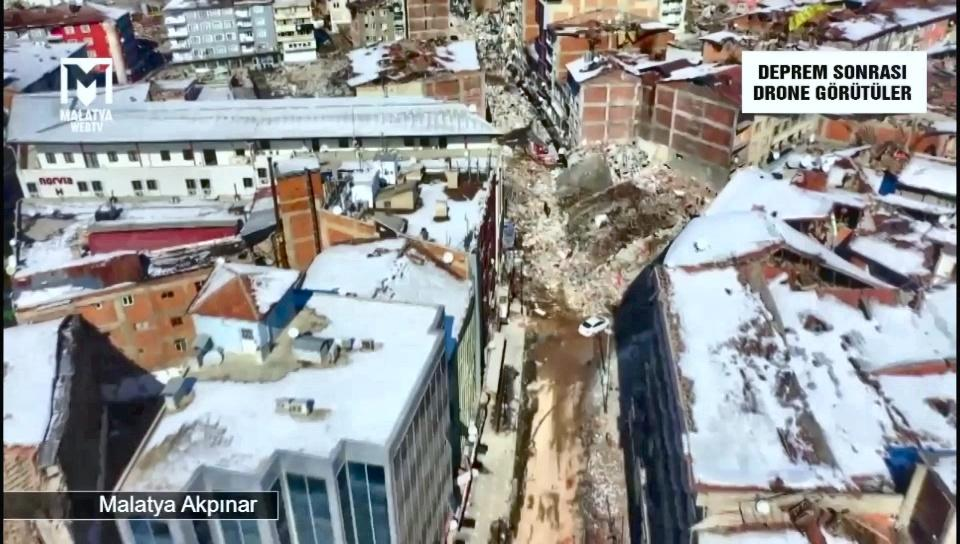kapali: (500, 138, 622, 369)
